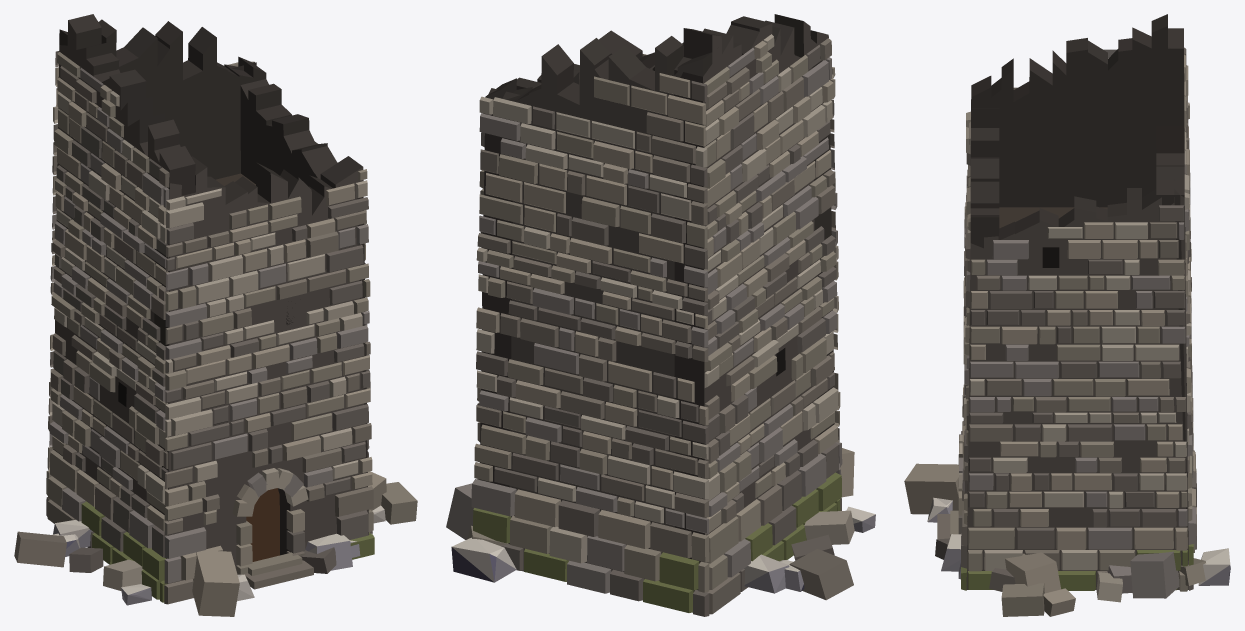
The model's file is mtn_watchtower_ruin.glb.
3 views of the same model, side by side, from view 1: azimuth 30°, elevation 25°; view 2: azimuth 150°, elevation 25°; view 3: azimuth 270°, elevation 25° (orthographic). The views are drawn at different scales.
Visible parts, largest first — view 1: mtn_watchtower_ruin; view 2: mtn_watchtower_ruin; view 3: mtn_watchtower_ruin.
Part boxes in pixels (x1,y1,x2,y2): mtn_watchtower_ruin: [14, 14, 417, 616]; mtn_watchtower_ruin: [446, 14, 875, 616]; mtn_watchtower_ruin: [904, 14, 1230, 616].
Bounding box in the file's own units: 11.26 × 15.41 × 9.39.
